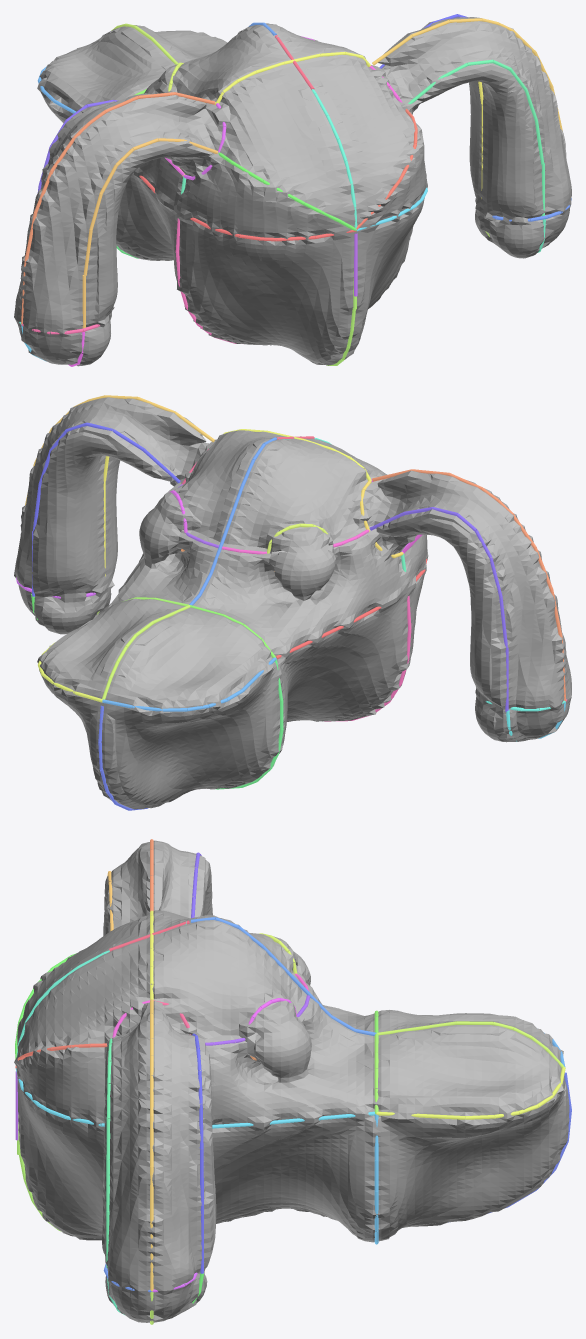
Rendered from scaffolds3d_dog.gltf.
3 views of the same model, one above another, from view 1: azimuth 30°, elevation 25°; view 2: azimuth 150°, elevation 25°; view 3: azimuth 270°, elevation 25° (orthographic). The views are drawn at different scales.
Size of the model in its own units: 0.7214 by 0.3768 by 0.5926.
